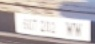w: (62, 22, 74, 35), (74, 22, 83, 36)
